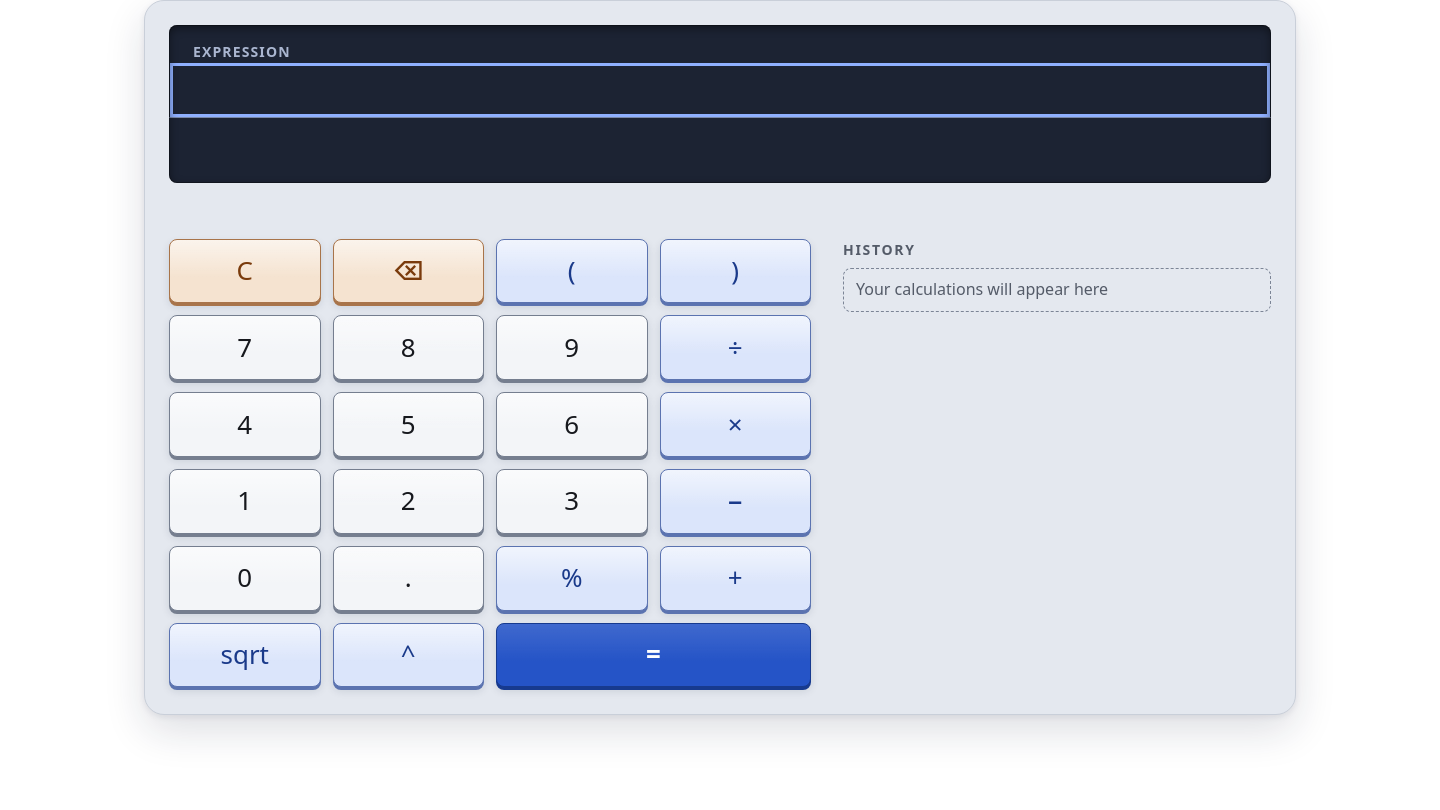
<Calculator /> › commit (FR-11) › commits with the = button just like Enter and keeps focus on the input (FR-11.10)
The image size is (1440, 810).
Type "2+2" into the field labelled "Expression" at (720, 90), box [169,62,1271,118]
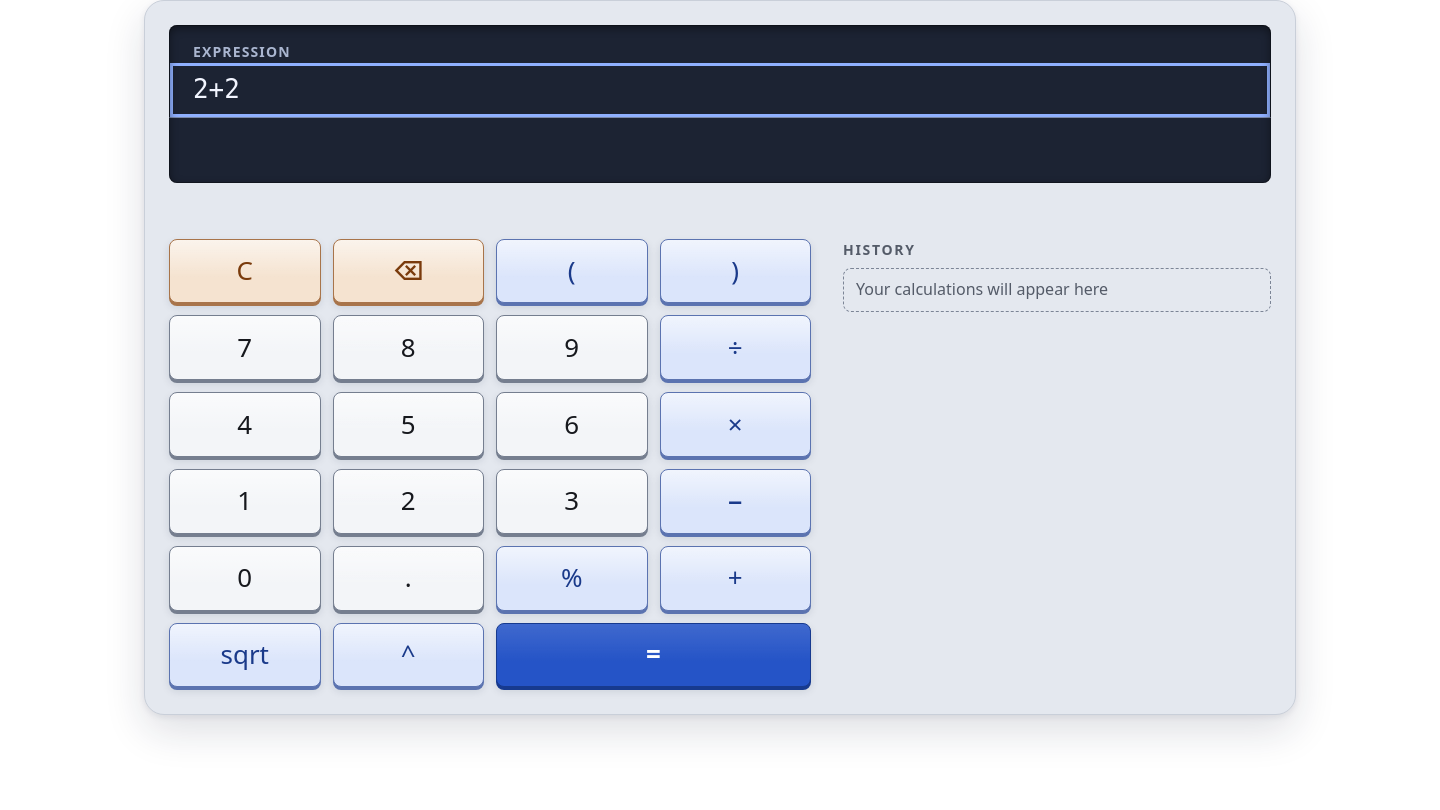
Click the button named "equals" at (654, 655), box [496,623,811,687]
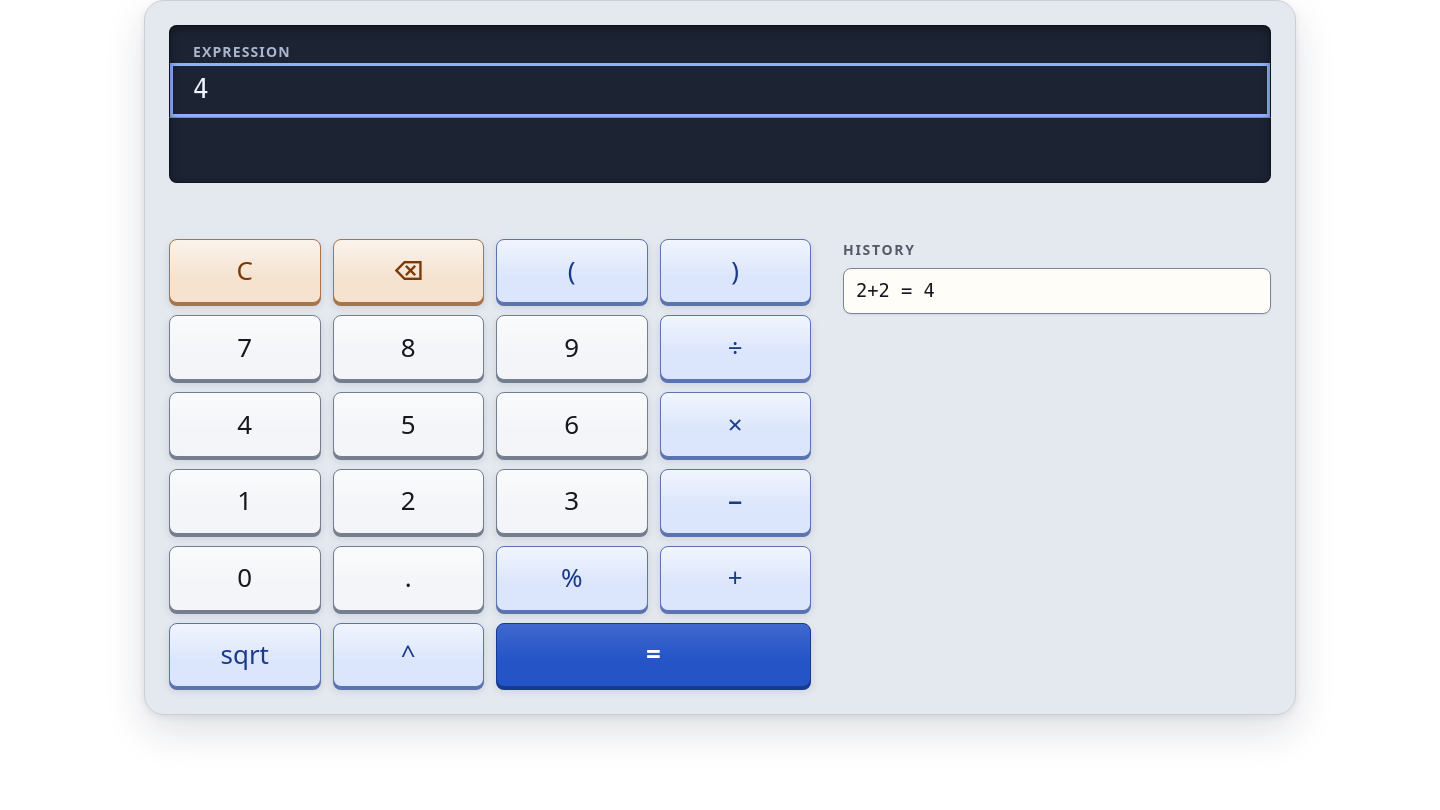
Check: the field labelled "Expression" holds "4", box [169,62,1271,118]
